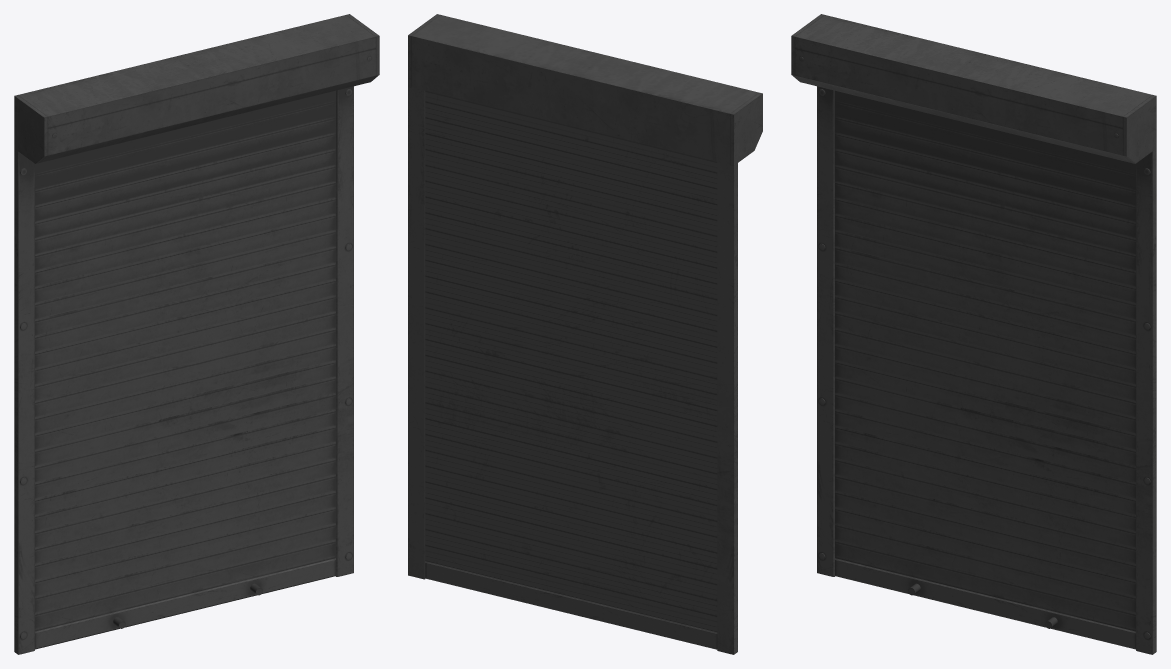
Rendered from rollershutter_window_03_1k.fbx.
3 renders of one model, left to right at view 1: azimuth 30°, elevation 25°; view 2: azimuth 150°, elevation 25°; view 3: azimuth 330°, elevation 25°, orthographic. The views are drawn at different scales.
Parts seen in each view (by area): view 1: rollershutter_window_03; view 2: rollershutter_window_03; view 3: rollershutter_window_03.
Boxes of the visible parts, <box> form: rollershutter_window_03: <box>14,14,379,654</box>; rollershutter_window_03: <box>408,14,762,654</box>; rollershutter_window_03: <box>791,14,1156,654</box>.
Size of the model in its own units: 97.63 by 155 by 15.31.
